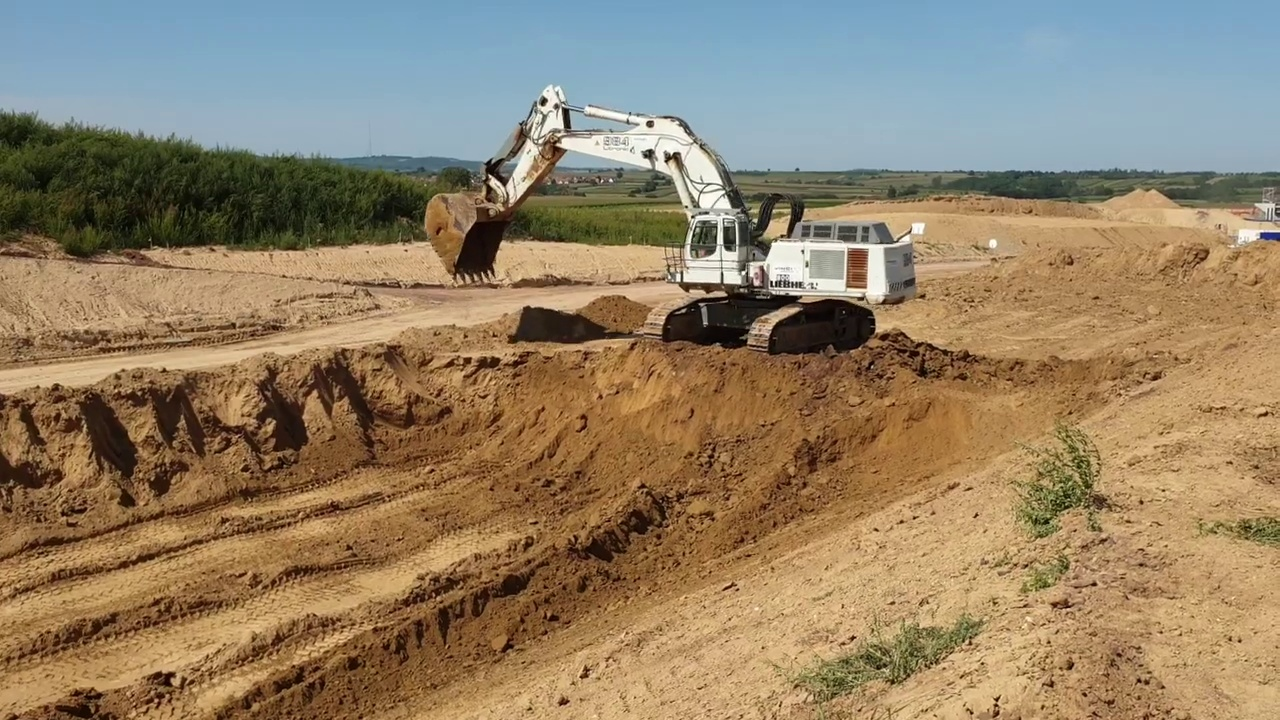excavator: (419, 81, 922, 361)
